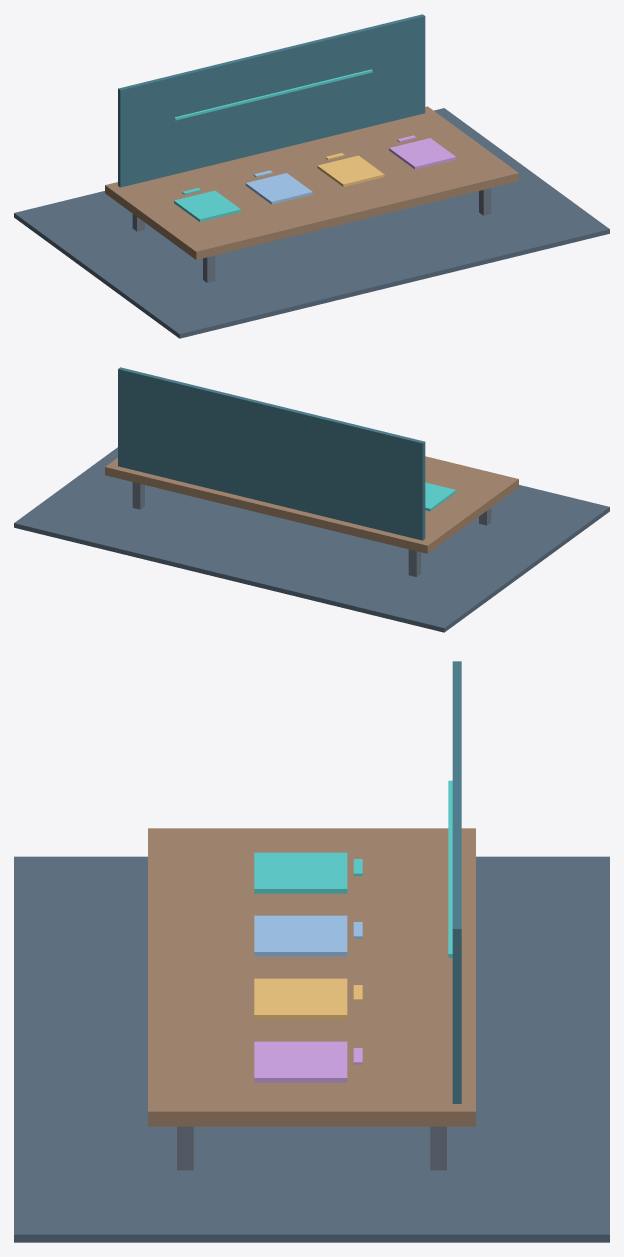
File: Device-Lab-Scene.glb
The picture shows the model from 3 angles, top to bottom: view 1: azimuth 30°, elevation 25°; view 2: azimuth 150°, elevation 25°; view 3: azimuth 270°, elevation 25°; orthographic projection. The views are drawn at different scales.
Parts seen in each view (by area): view 1: Lab Floor, Back Panel, Desk Top, Slot 2 Platform, Slot 3 Platform, Slot 4 Platform, Slot 1 Platform, Panel Accent; view 2: Lab Floor, Back Panel, Desk Top, Slot 1 Platform; view 3: Lab Floor, Desk Top, Back Panel, Slot 1 Platform, Slot 2 Platform, Slot 3 Platform, Slot 4 Platform, Panel Accent, Desk Leg Right Front, Desk Leg Right Back.
Part boxes in pixels (<box>): Lab Floor: <box>14,108,609,338</box>; Back Panel: <box>118,14,425,187</box>; Desk Top: <box>105,106,518,259</box>; Slot 2 Platform: <box>245,173,312,204</box>; Slot 3 Platform: <box>317,155,384,186</box>; Slot 4 Platform: <box>389,138,456,169</box>; Slot 1 Platform: <box>174,190,240,221</box>; Panel Accent: <box>174,69,372,120</box>; Lab Floor: <box>14,447,609,632</box>; Back Panel: <box>118,367,425,540</box>; Desk Top: <box>105,456,518,553</box>; Slot 1 Platform: <box>425,482,456,511</box>; Lab Floor: <box>14,856,609,1242</box>; Desk Top: <box>148,828,475,1126</box>; Back Panel: <box>452,661,461,1103</box>; Slot 1 Platform: <box>254,852,347,893</box>; Slot 2 Platform: <box>254,915,347,956</box>; Slot 3 Platform: <box>254,978,347,1019</box>; Slot 4 Platform: <box>254,1041,347,1082</box>; Panel Accent: <box>448,780,452,957</box>; Desk Leg Right Front: <box>177,1126,193,1170</box>; Desk Leg Right Back: <box>430,1126,446,1170</box>.
Bounding box in the file's own units: 12 × 3.83 × 8.
